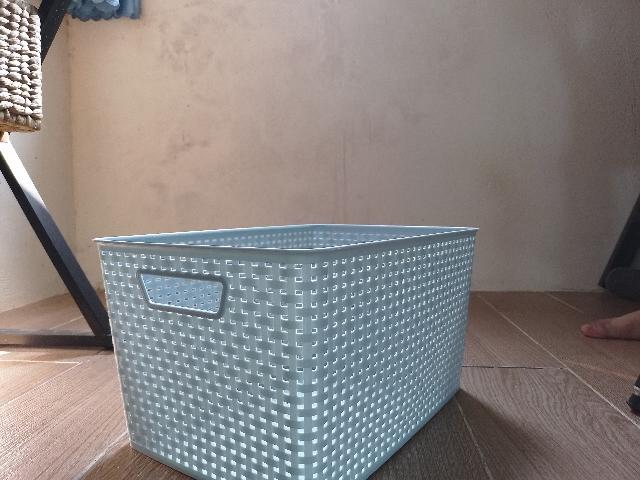cart: (92, 223, 479, 480)
